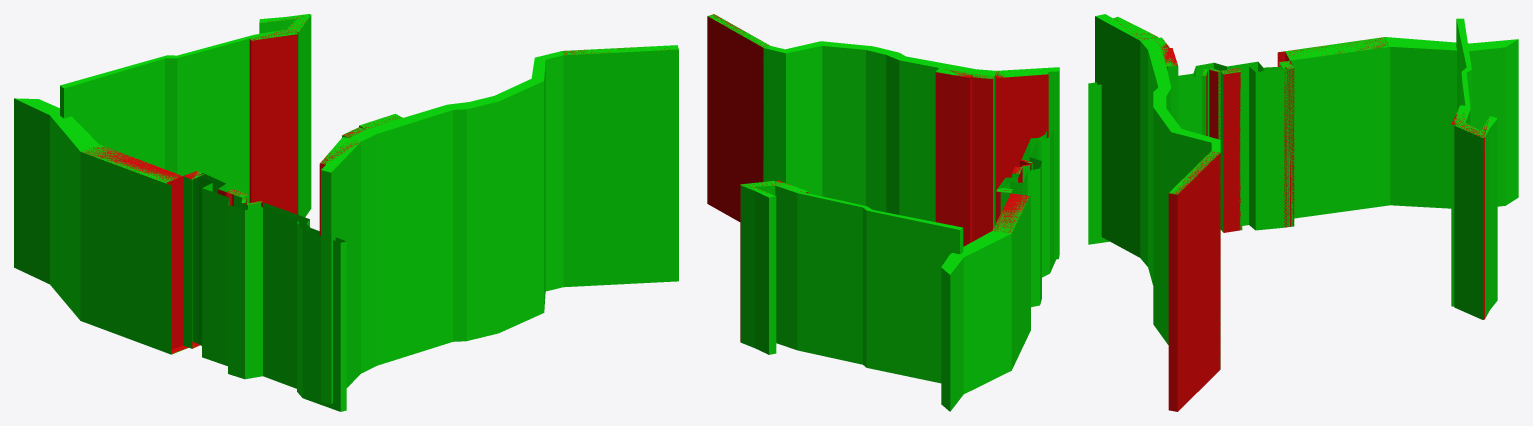
The model's file is InvisibleWall_023.fbx.
3 views of the same model, side by side, from view 1: azimuth 30°, elevation 25°; view 2: azimuth 150°, elevation 25°; view 3: azimuth 270°, elevation 25° (orthographic). The views are drawn at different scales.
Visible parts, largest first — view 1: Designer143, Designer141, Designer149, InvisibleWall_023_Phys; view 2: Designer149, Designer143, InvisibleWall_023_Phys, Designer141; view 3: Designer141, Designer143, InvisibleWall_023_Phys, Designer149.
Part boxes in pixels (x1=…): Designer143: x1=321, y1=45, x2=678, y2=404; Designer141: x1=14, y1=98, x2=346, y2=411; Designer149: x1=60, y1=14, x2=311, y2=217; InvisibleWall_023_Phys: x1=83, y1=15, x2=675, y2=354; Designer149: x1=740, y1=181, x2=963, y2=383; Designer143: x1=707, y1=14, x2=1059, y2=259; InvisibleWall_023_Phys: x1=707, y1=14, x2=1048, y2=341; Designer141: x1=941, y1=128, x2=1056, y2=411; Designer141: x1=1088, y1=37, x2=1518, y2=244; Designer143: x1=1095, y1=14, x2=1220, y2=368; InvisibleWall_023_Phys: x1=1113, y1=18, x2=1488, y2=411; Designer149: x1=1451, y1=18, x2=1497, y2=319.
Bounding box in the file's own units: 5078 × 2375 × 4150.
